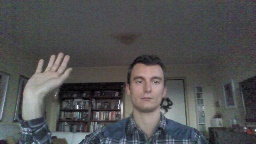Mano_aperta: (21, 50, 74, 103)
